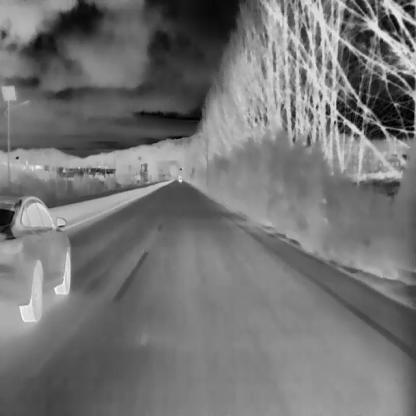car: (0, 193, 70, 321)
